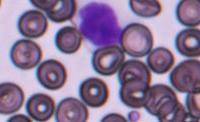M: (76, 0, 123, 46)
